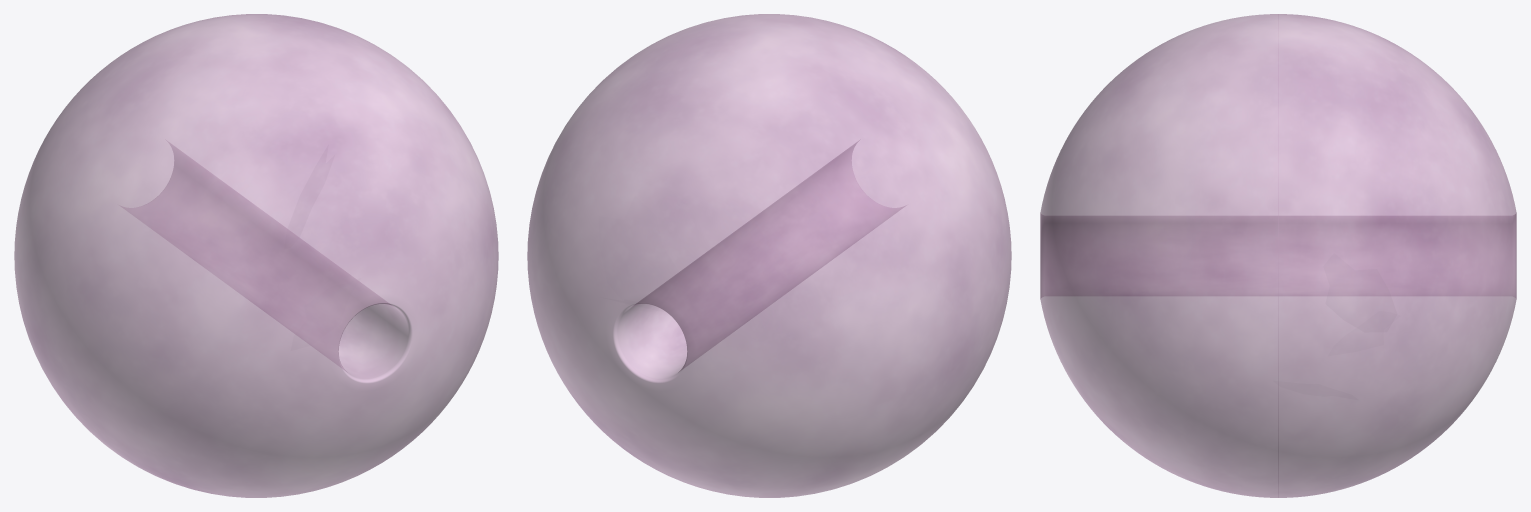
The model's file is kunzite-6mm.glb.
3 renders of one model, left to right at view 1: azimuth 30°, elevation 25°; view 2: azimuth 150°, elevation 25°; view 3: azimuth 270°, elevation 25°, orthographic.
Parts seen in each view (by area): view 1: kunzite.001; view 2: kunzite.001; view 3: kunzite.001.
Part boxes in pixels (x1,y1,x2,y2): kunzite.001: (14,14,498,497); kunzite.001: (527,14,1011,497); kunzite.001: (1040,14,1516,497).
Size of the model in its own units: 0.006 by 0.006 by 0.0059.
Materials: 2 (1 with a texture image).
